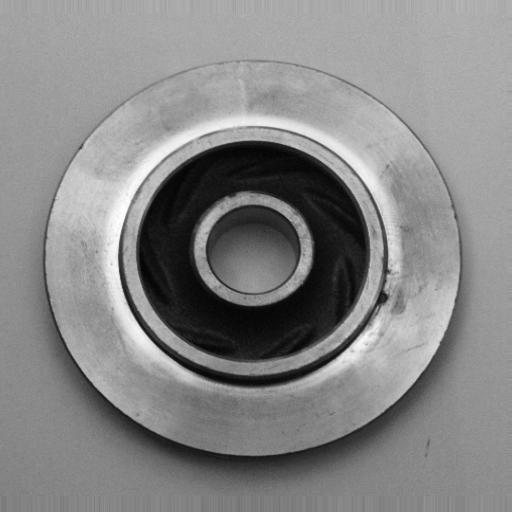crack: (369, 279, 396, 319)
unpolished_casting: (42, 55, 466, 462)
